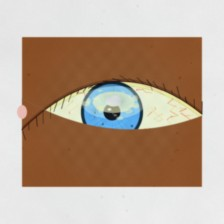corneal_ulcer: (80, 75, 147, 129)
